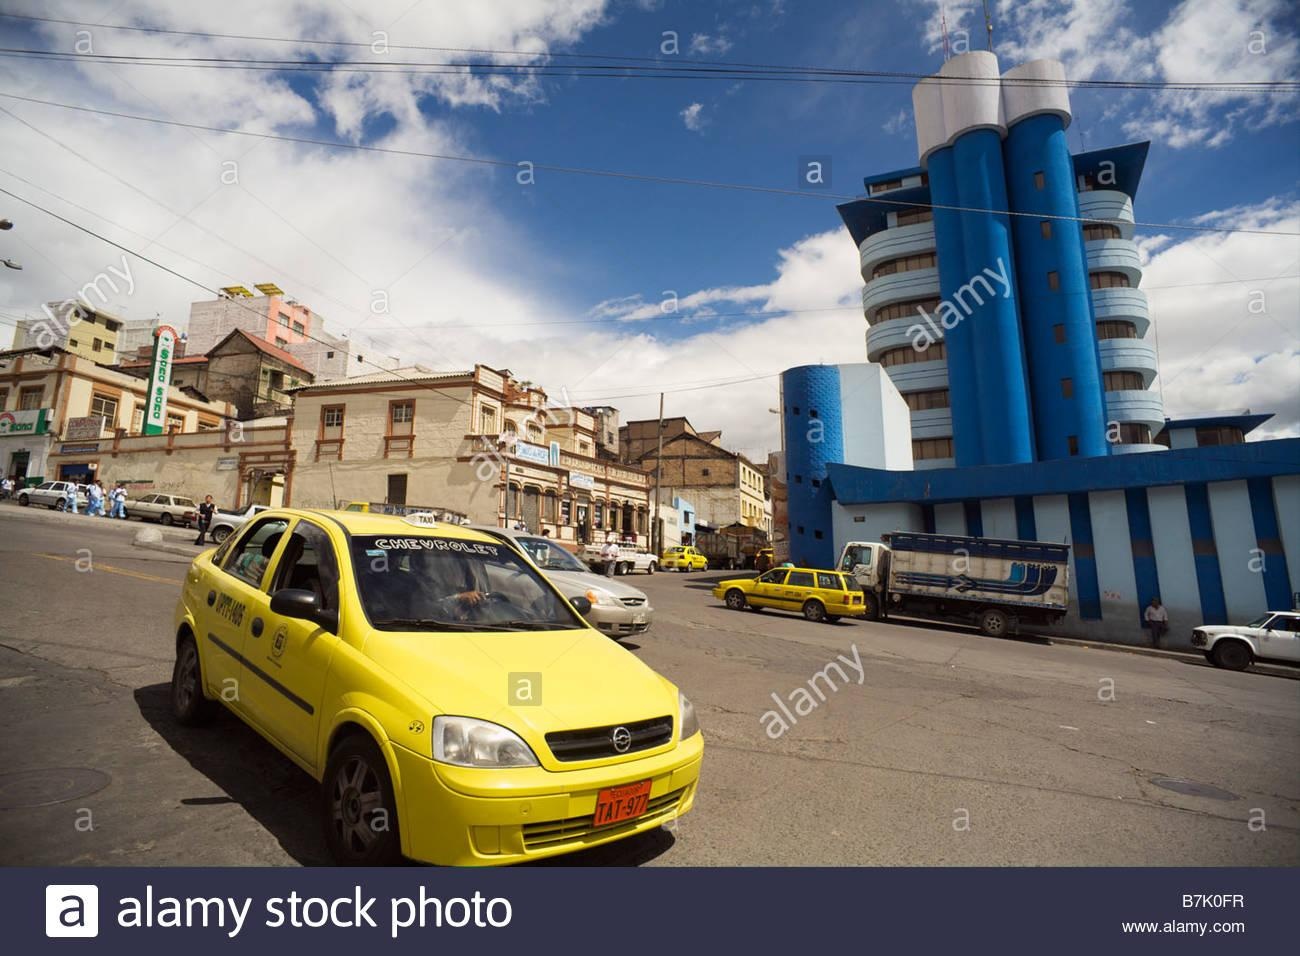taxi: (134, 513, 717, 843)
